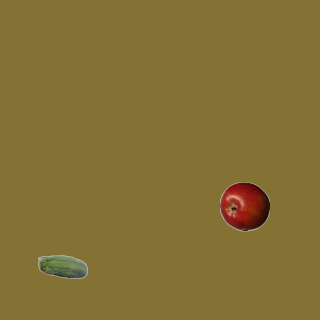Apple Braeburn: (219, 181, 269, 231)
Corn Husk: (37, 243, 87, 293)
